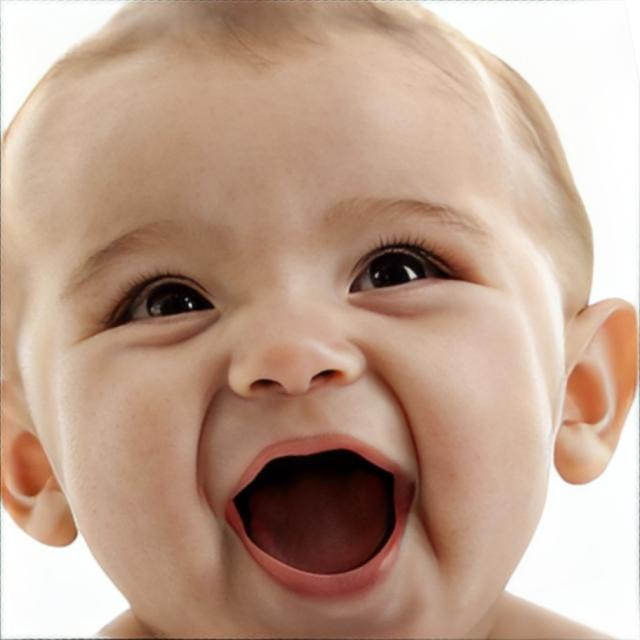surprise: (18, 0, 566, 636)
